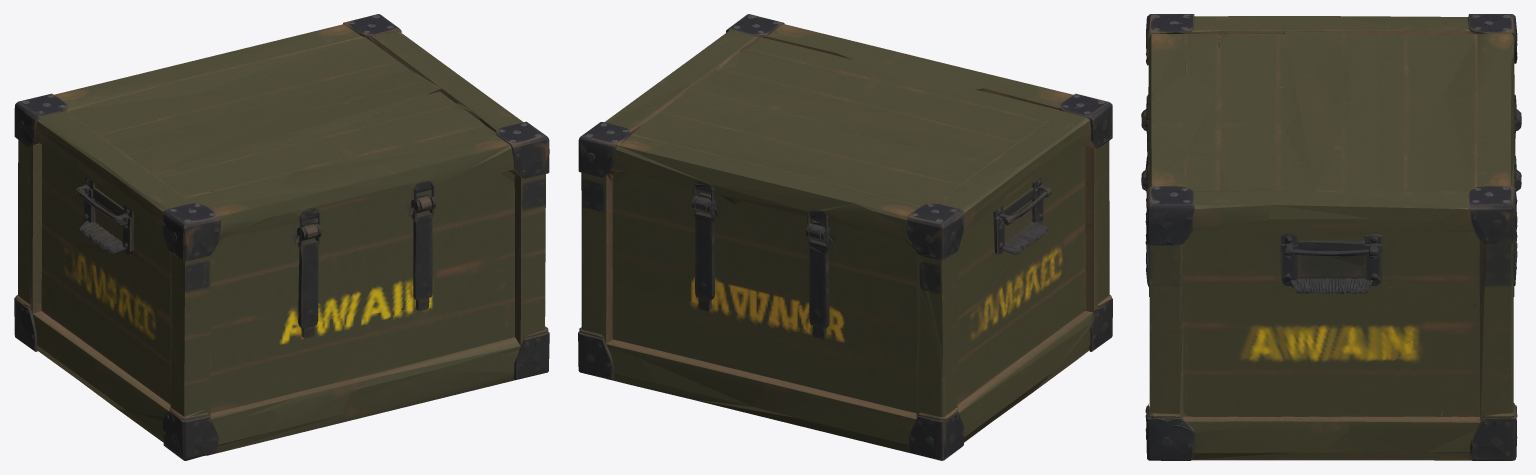
File: meshy_bron.glb
The picture shows the model from 3 angles, left to right: view 1: azimuth 30°, elevation 25°; view 2: azimuth 150°, elevation 25°; view 3: azimuth 270°, elevation 25°; orthographic projection. The views are drawn at different scales.
Bounding box in the file's own units: 1.9 × 1.16 × 1.55.
1 material, 1 textured.
